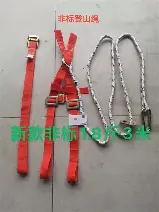safety belt: (18, 32, 152, 182)
